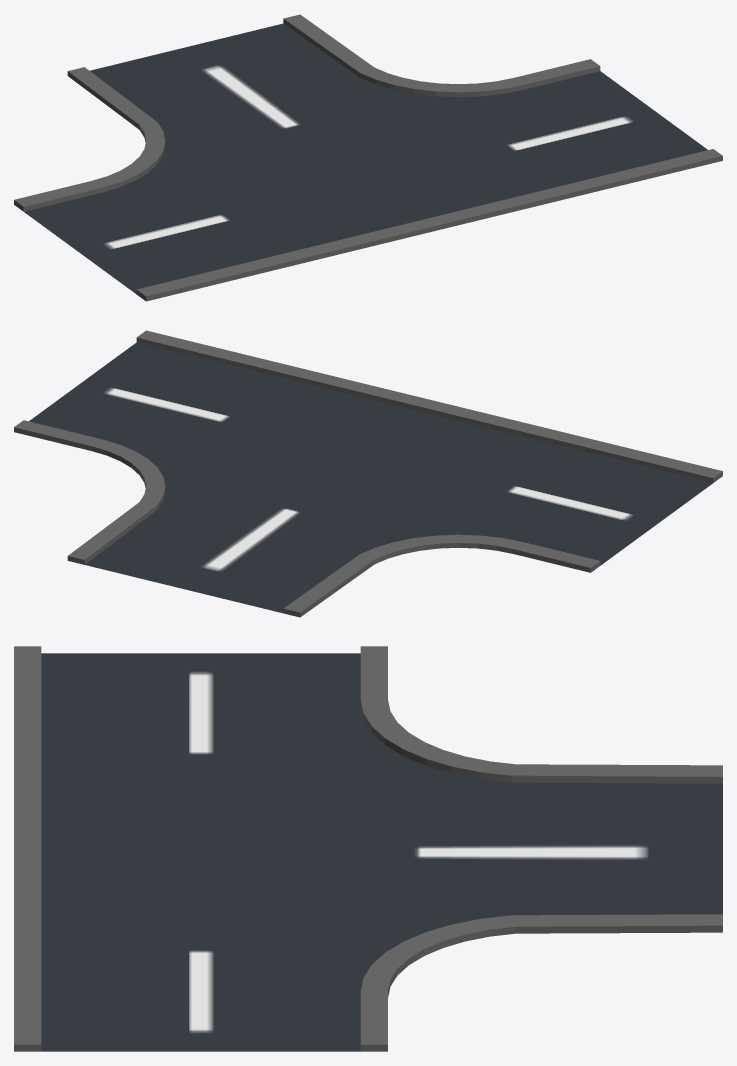
File: tri-road.fbx
3 views of the same model, one above another, from view 1: azimuth 30°, elevation 25°; view 2: azimuth 150°, elevation 25°; view 3: azimuth 270°, elevation 25° (orthographic). The views are drawn at different scales.
Visible parts, largest first — view 1: tri-road, tri-road.side; view 2: tri-road, tri-road.side; view 3: tri-road, tri-road.side.
Part boxes in pixels (x1=…): tri-road: x1=24, y1=23, x2=707, y2=294; tri-road.side: x1=14, y1=14, x2=722, y2=301; tri-road: x1=29, y1=342, x2=712, y2=613; tri-road.side: x1=14, y1=330, x2=722, y2=617; tri-road: x1=41, y1=653, x2=722, y2=1051; tri-road.side: x1=14, y1=646, x2=722, y2=1051.
Bounding box in the file's own units: 7267 × 59.32 × 5469.
2 materials, 1 textured.
